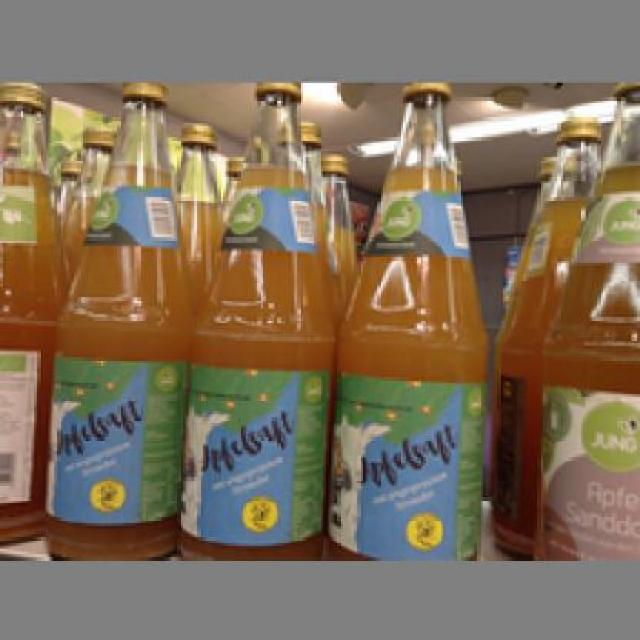Juice: (326, 79, 491, 555), (174, 79, 334, 552), (46, 82, 186, 558), (534, 82, 637, 555)
